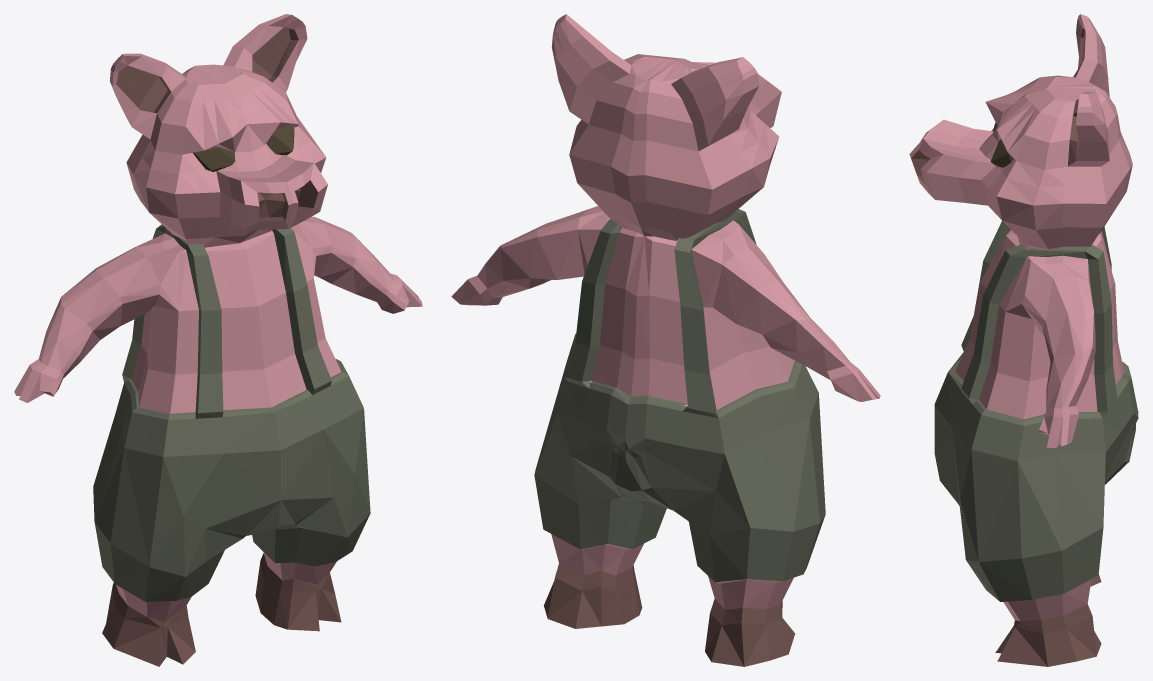
File: PigMain2.0.dae
3 renders of one model, left to right at view 1: azimuth 30°, elevation 25°; view 2: azimuth 150°, elevation 25°; view 3: azimuth 270°, elevation 25°, orthographic. The views are drawn at different scales.
Parts seen in each view (by area): view 1: Cylinder; view 2: Cylinder; view 3: Cylinder.
Part boxes in pixels (box(x1,y1,x2,y2)): Cylinder: box(14, 14, 422, 666); Cylinder: box(451, 14, 880, 666); Cylinder: box(909, 14, 1138, 666).
Size of the model in its own units: 4.15 by 2.09 by 5.71.
